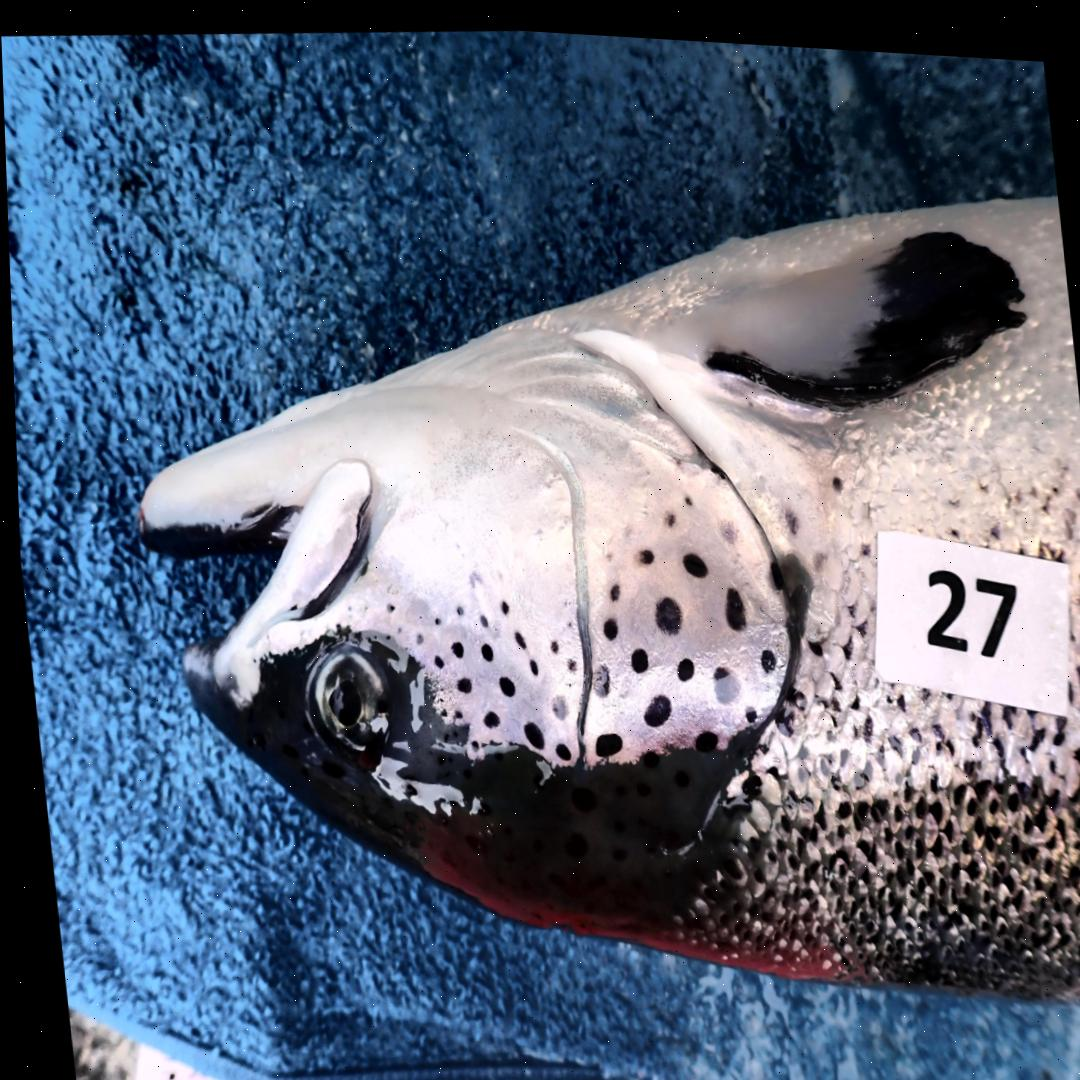spot: (708, 657, 736, 697), (650, 588, 678, 627), (721, 578, 742, 620), (639, 687, 666, 718), (713, 505, 735, 539), (590, 725, 617, 750), (678, 545, 703, 570), (518, 715, 539, 743), (588, 657, 605, 691), (625, 639, 645, 665), (689, 723, 712, 744), (546, 689, 563, 715), (672, 650, 690, 672), (755, 639, 771, 662), (767, 552, 780, 580), (495, 671, 511, 691), (634, 540, 651, 558), (599, 612, 614, 632), (478, 705, 495, 722), (550, 737, 566, 754), (451, 672, 466, 689), (659, 503, 673, 520), (740, 699, 753, 716), (447, 635, 459, 652), (477, 637, 489, 654), (509, 625, 521, 642), (606, 578, 617, 595), (525, 653, 534, 670), (430, 650, 439, 664), (496, 595, 505, 609), (546, 633, 555, 647), (562, 652, 572, 664), (474, 609, 483, 621), (681, 486, 690, 497), (466, 735, 473, 747), (449, 705, 457, 714), (452, 601, 459, 610), (383, 599, 390, 607), (412, 629, 418, 638), (430, 612, 436, 620), (436, 703, 441, 712), (393, 622, 397, 629), (434, 693, 438, 697)
